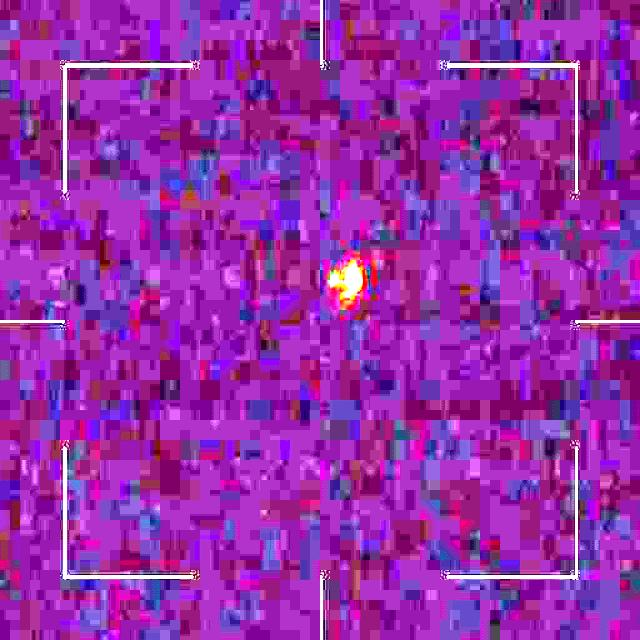bird: (329, 261, 364, 308)
